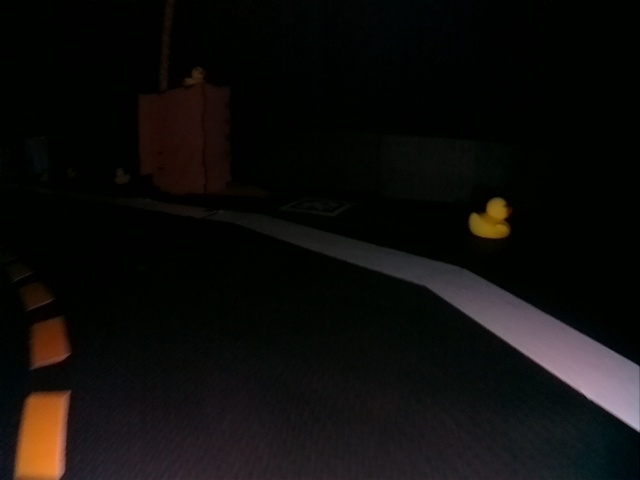Duckie: (468, 197, 513, 239), (185, 67, 202, 85), (115, 168, 128, 180)
QR code: (293, 198, 350, 216)
